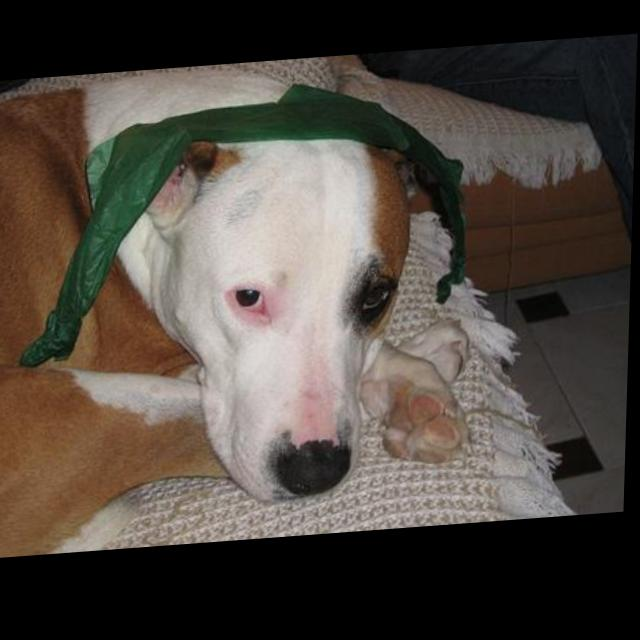amstaff: (1, 54, 487, 560)
